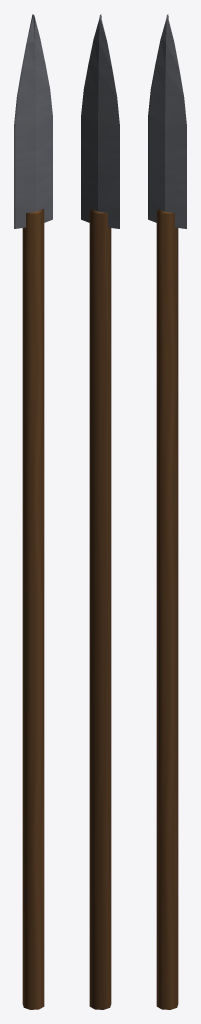
Rendered from sagaie.glb.
3 renders of one model, left to right at view 1: azimuth 30°, elevation 25°; view 2: azimuth 150°, elevation 25°; view 3: azimuth 330°, elevation 25°, orthographic.
Visible parts, largest first — view 1: sagaie; view 2: sagaie; view 3: sagaie.
Part boxes in pixels (x1,y1,x2,y2): sagaie: (14,14,52,1009); sagaie: (81,14,119,1009); sagaie: (148,14,186,1009).
Bounding box in the file's own units: 0.056 × 1.37 × 0.028.
Materials: 1 (1 with a texture image).
